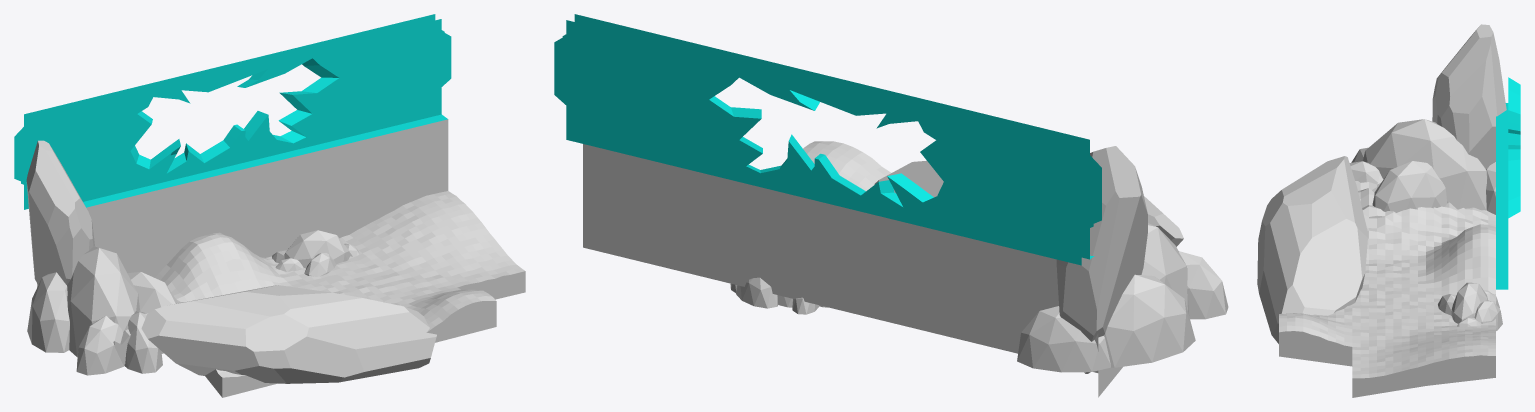
The model's file is LabObservatory.fbx.
3 renders of one model, left to right at view 1: azimuth 30°, elevation 25°; view 2: azimuth 150°, elevation 25°; view 3: azimuth 270°, elevation 25°, orthographic. The views are drawn at different scales.
Parts seen in each view (by area): view 1: SolLabo.002, SolLabo.003; view 2: SolLabo.002, SolLabo.003; view 3: SolLabo.002, SolLabo.003.
Part boxes in pixels (bbox=[...]): SolLabo.002: bbox=[26, 119, 525, 397]; SolLabo.003: bbox=[14, 14, 451, 209]; SolLabo.002: bbox=[583, 141, 1228, 397]; SolLabo.003: bbox=[554, 14, 1101, 265]; SolLabo.002: bbox=[1257, 24, 1506, 397]; SolLabo.003: bbox=[1496, 77, 1520, 289].
Size of the model in its own units: 2002 by 1073 by 942.
